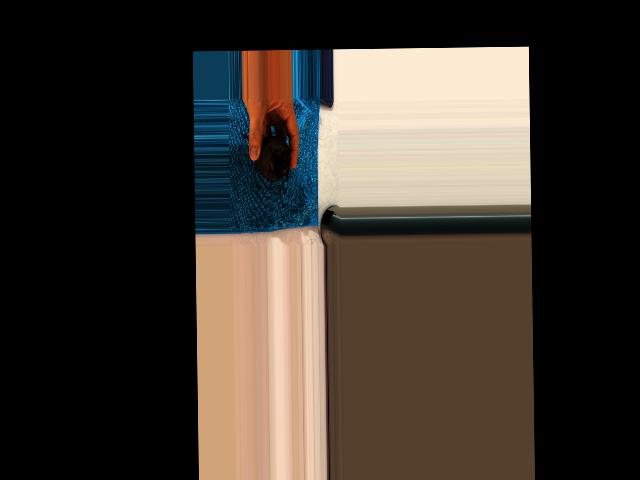beet: (240, 132, 290, 194)
